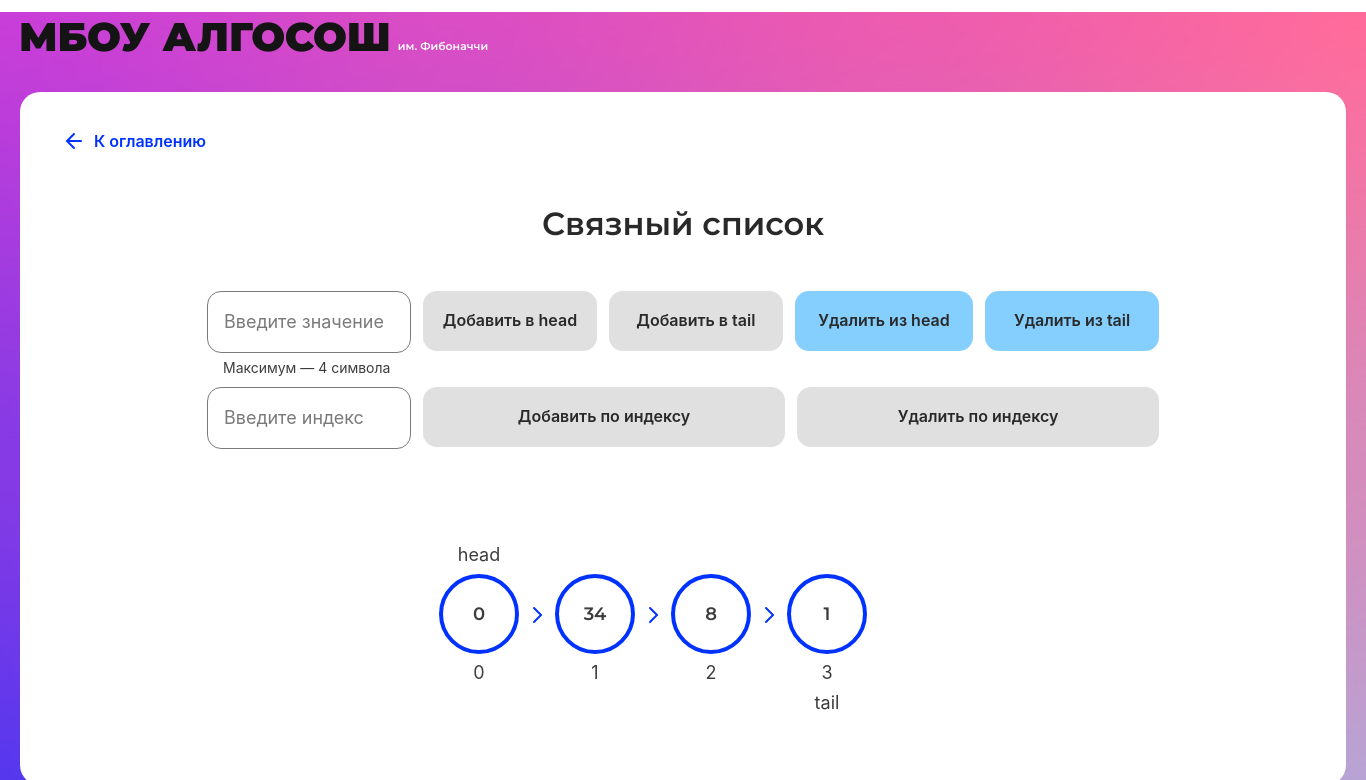
list works correctly › should check the correctness of deleted the element from head
This screenshot has width=1366, height=780.
Click the button "Удалить из head" at (884, 321), box [795,291,973,351]
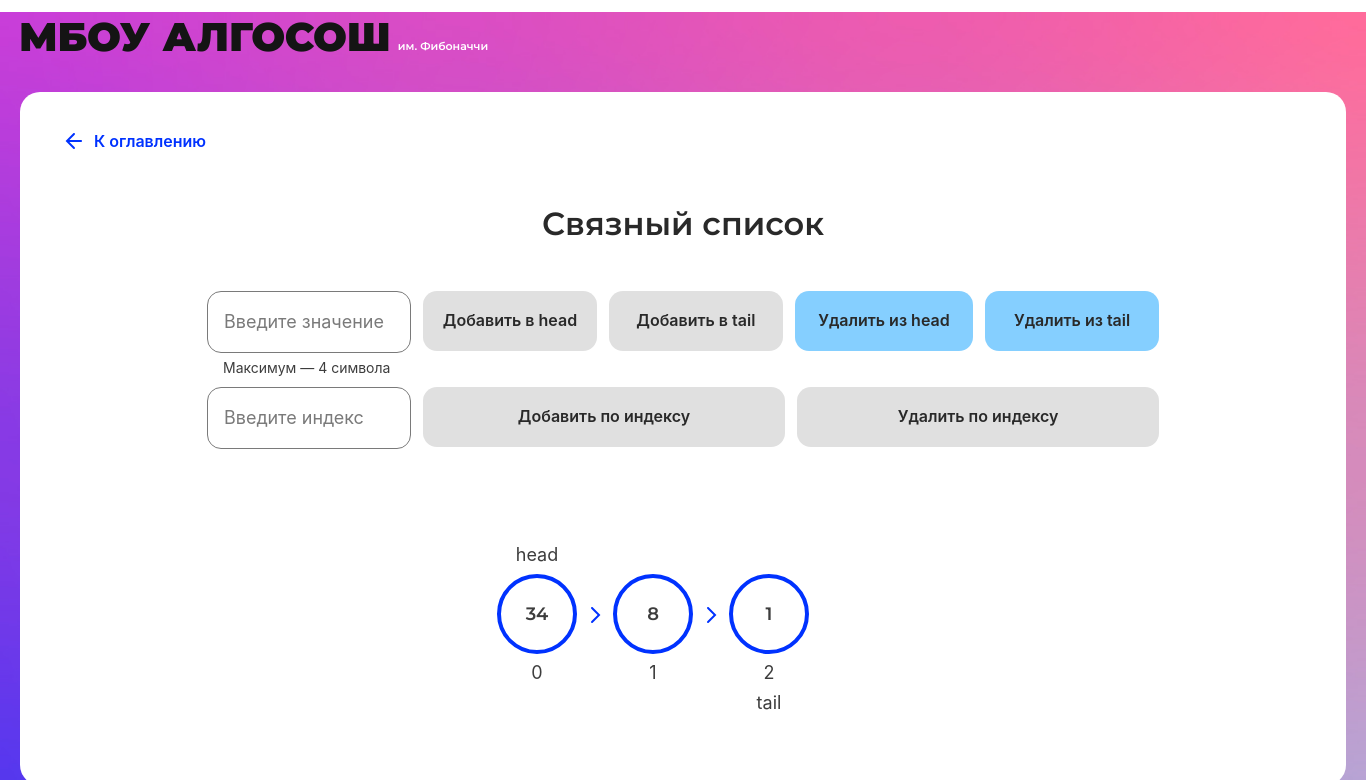
Expected: the text "head" is shown, [516,544,558,566]
Expected: the element showing "34" is shown, [497,574,577,654]
